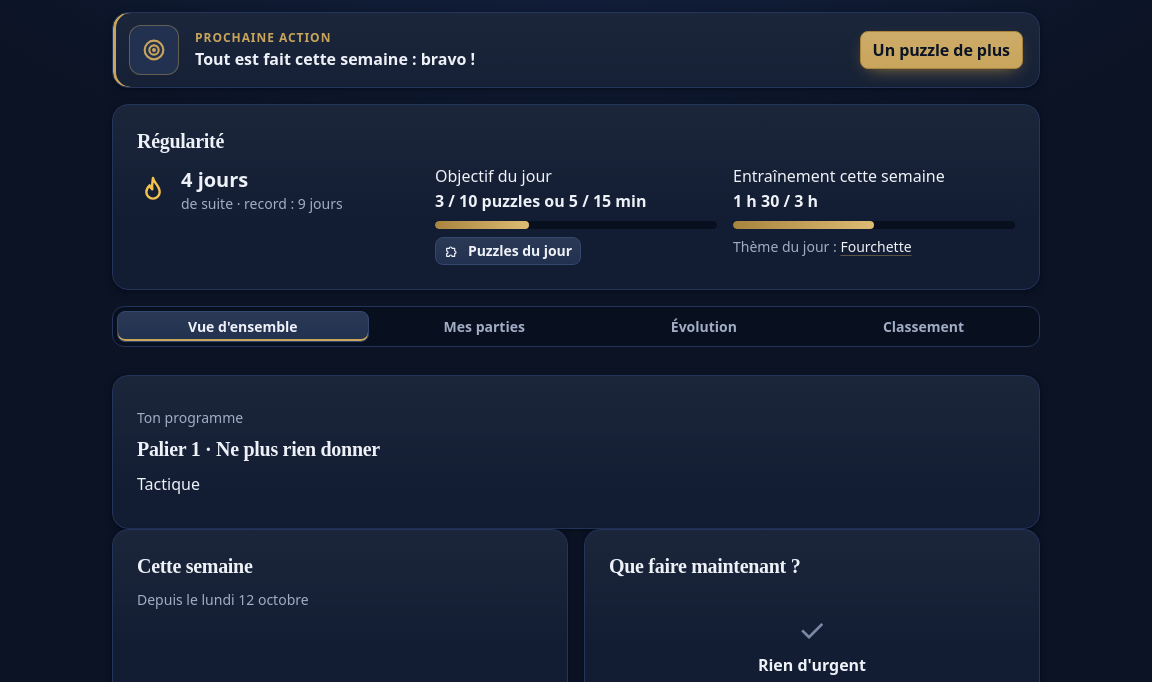
Test: Coach : régularité et bilan mensuel › série, record, objectif du jour, minutes de la semaine, verdict et conseil
Expected: the element with test id "day-streak" shows "4 jours", [181,166,248,193]
Expected: the element with test id "day-streak" shows "record : 9 jours", [137,166,343,213]
Le bilan mensuel est dans l'onglet « Évolution ».
What coordinates should you click on to do the following:
click the tab with test id "progress-tab-evolution"
I would click on:
 (704, 327)
Its box is [600,311,808,342].
(page scrolled)
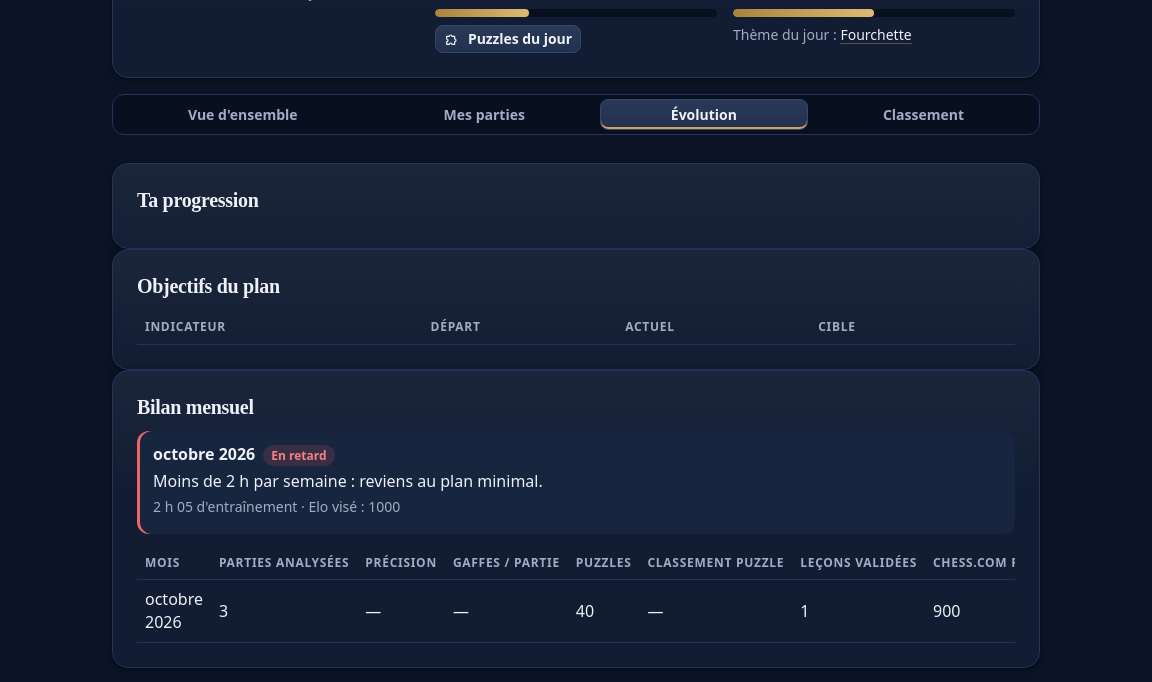
Expected: the element with test id "month-verdict" shows "En retard", [271,447,327,464]
Expected: the text "En retard" is shown, [263,445,335,466]
Expected: the text with test id "month-advice" shows "plan minimal", [153,470,543,492]
